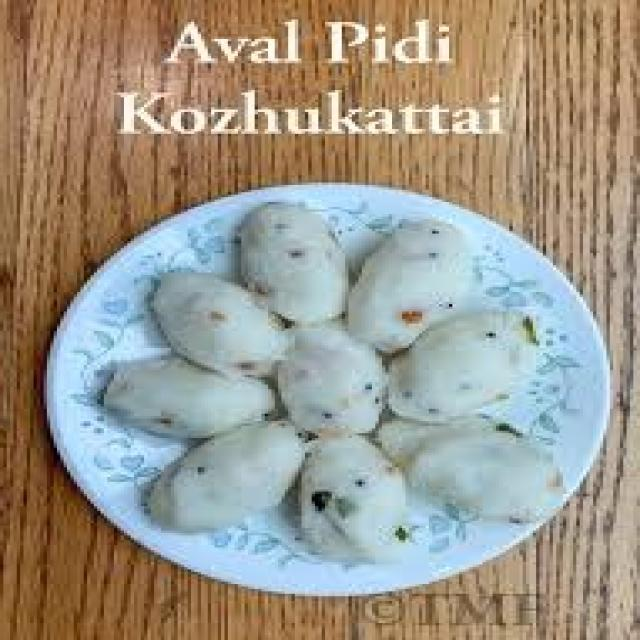pidi kolukattai: (90, 184, 610, 600)
